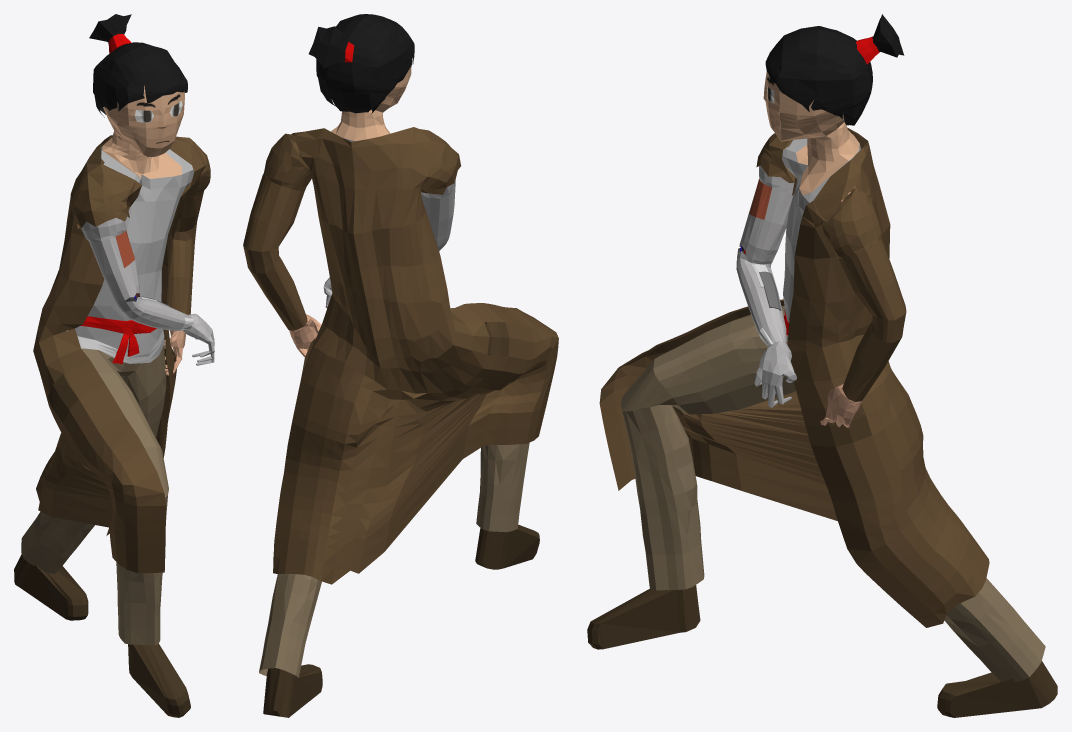
The model's file is One_RR_000003.obj.
3 views of the same model, side by side, from view 1: azimuth 30°, elevation 25°; view 2: azimuth 150°, elevation 25°; view 3: azimuth 270°, elevation 25° (orthographic). The views are drawn at different scales.
Parts seen in each view (by area): view 1: Hair_Cube.004; view 2: Hair_Cube.004; view 3: Hair_Cube.004.
Part boxes in pixels (x1,y1,x2,y2): Hair_Cube.004: (14, 14, 214, 717); Hair_Cube.004: (243, 14, 558, 717); Hair_Cube.004: (587, 14, 1057, 717).
Bounding box in the file's own units: 1.2 × 3.65 × 2.23.
